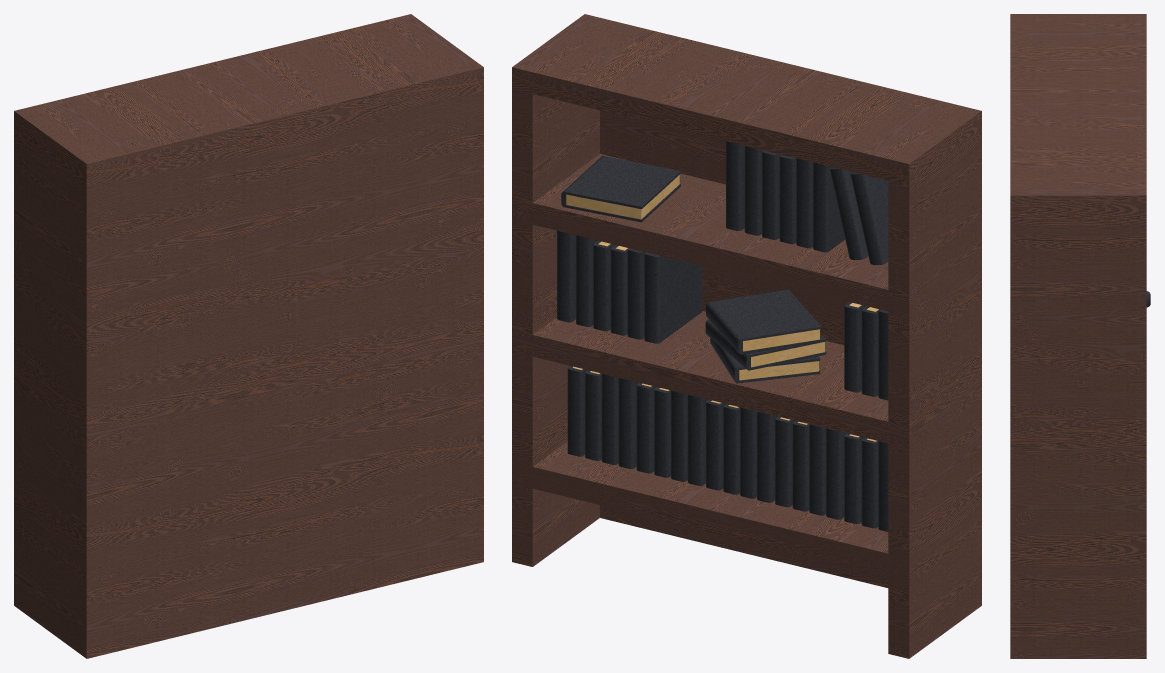
File: Bookshelf.glb
3 views of the same model, side by side, from view 1: azimuth 30°, elevation 25°; view 2: azimuth 150°, elevation 25°; view 3: azimuth 270°, elevation 25° (orthographic). The views are drawn at different scales.
Visible parts, largest first — view 1: Bookshelf; view 2: Bookshelf; view 3: Bookshelf.
Part boxes in pixels (x1,y1,x2,y2): Bookshelf: (14, 14, 483, 658); Bookshelf: (512, 14, 981, 658); Bookshelf: (1010, 14, 1150, 658).
Size of the model in its own units: 4.16 by 4.95 by 1.36.
Materials: 3 (3 with a texture image).
